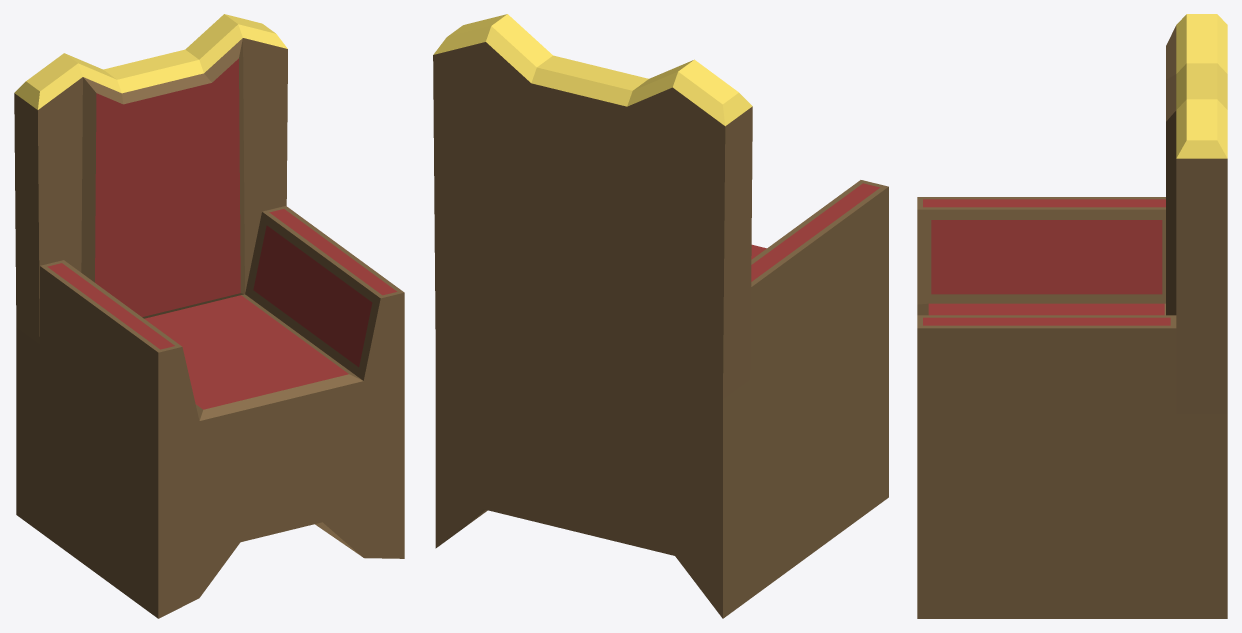
File: Capitans_Chair.fbx
The picture shows the model from 3 angles, left to right: view 1: azimuth 30°, elevation 25°; view 2: azimuth 150°, elevation 25°; view 3: azimuth 270°, elevation 25°; orthographic projection. The views are drawn at different scales.
Parts seen in each view (by area): view 1: Cube; view 2: Cube; view 3: Cube.
Boxes of the visible parts, x1,y1,x2,y2 form: Cube: (14,14,404,618); Cube: (433,14,888,618); Cube: (917,14,1227,618).
Bounding box in the file's own units: 441 × 766 × 434.
